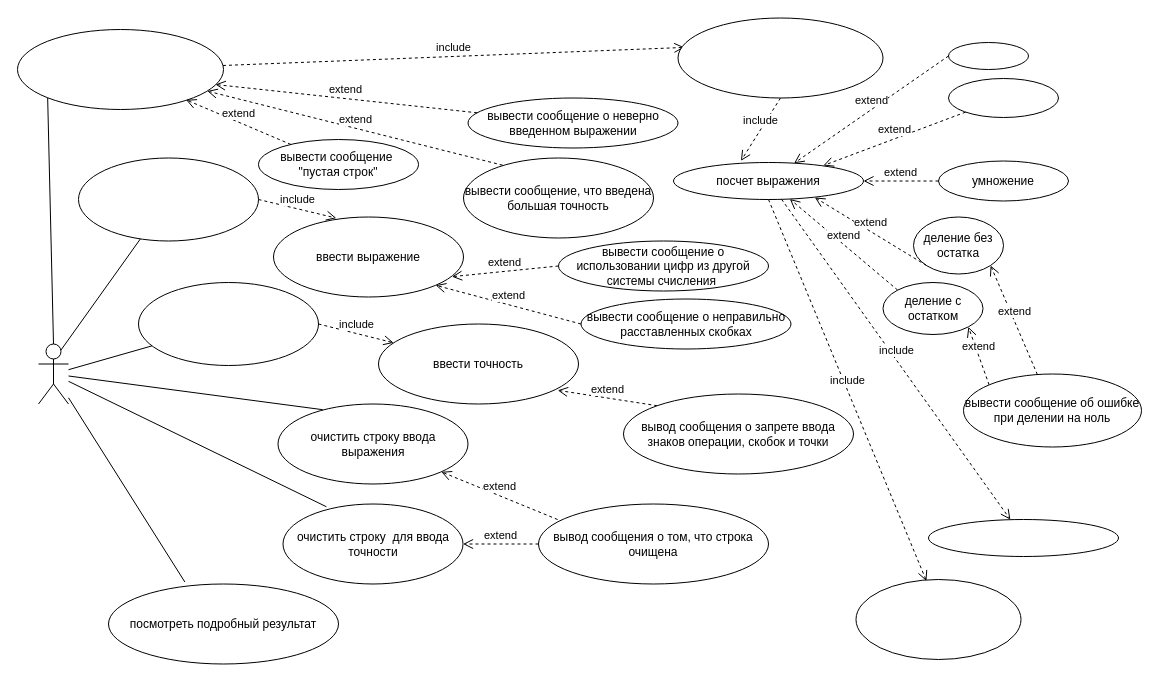
Image size: 1159x681. Some labels were removed from this diagram. Each missing label, with the box of its shape:
Actor: (38, 343, 68, 404)
вывод результата на экран: (928, 518, 1118, 556)
вычитание: (948, 42, 1028, 70)
запись подробного результата в файл: (855, 578, 1021, 660)
запустить работу калькулятора: (16, 28, 224, 110)
переключиться на поле для ввода выражения: (78, 157, 258, 241)
переключиться на поле для ввода точности: (138, 282, 318, 366)
преобразование выражения в обратную польскую запись: (677, 17, 883, 98)
сложение: (948, 78, 1058, 118)
